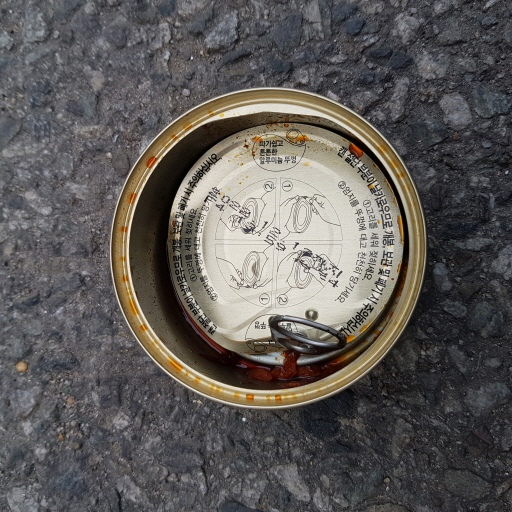Metal_1: (106, 86, 429, 412)
